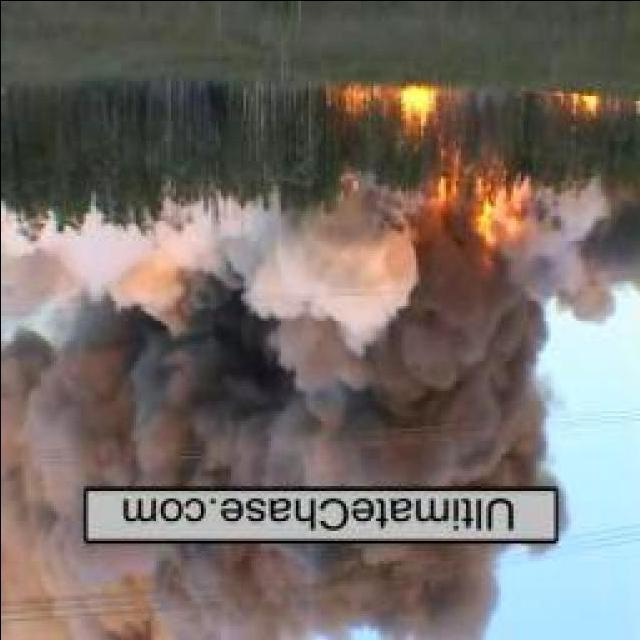Fire: (472, 186, 524, 278), (395, 88, 445, 146), (336, 83, 370, 111), (572, 96, 603, 114)
